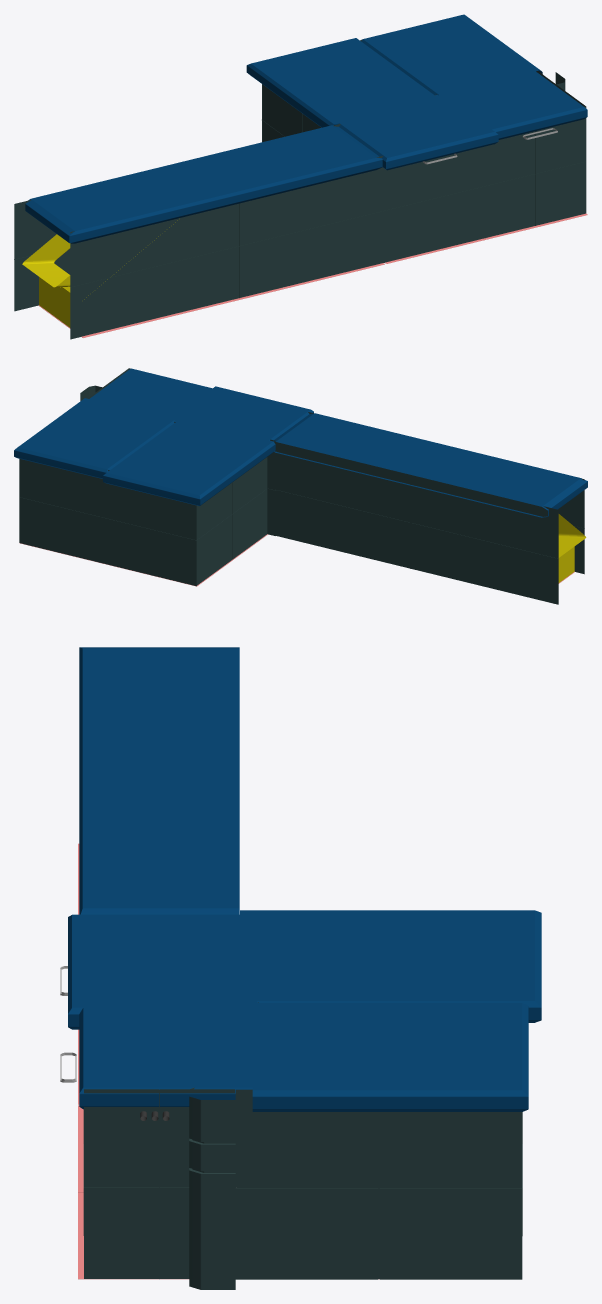
File: SalaAFinal.dae
3 renders of one model, top to bottom at view 1: azimuth 30°, elevation 25°; view 2: azimuth 150°, elevation 25°; view 3: azimuth 270°, elevation 25°, orthographic. The views are drawn at different scales.
Visible parts, largest first — view 1: PIllar_w_Wall12, RPanel5, RPanel4, PIllar_w_Wall10, RPanel3, PIllar_w_Wall11, RPanel1, RPanel2, PIllar_w_Wall8, Doorway, PIllar_w_Wall7; view 2: PIllar_w_Wall8, RPanel5, RPanel4, PIllar_w_Wall5, PIllar_w_Wall4, RPanel3, PIllar_w_Wall7, RPanel1, RPanel2, Doorway, PIllar_w_Wall12, PIllar_w_Wall2; view 3: PIllar_w_Wall6, RPanel5, RPanel3, RPanel4, PIllar_w_Wall9, RPanel1, RPanel2, PIllar_w_Wall1.
Part boxes in pixels (bbox=[...]): PIllar_w_Wall12: bbox=[70, 155, 409, 339]; RPanel5: bbox=[25, 125, 382, 243]; RPanel4: bbox=[246, 38, 438, 127]; PIllar_w_Wall10: bbox=[485, 106, 586, 237]; RPanel3: bbox=[361, 14, 542, 95]; PIllar_w_Wall11: bbox=[409, 146, 485, 256]; RPanel1: bbox=[334, 94, 498, 170]; RPanel2: bbox=[440, 71, 587, 139]; PIllar_w_Wall8: bbox=[14, 124, 340, 311]; Doorway: bbox=[22, 220, 177, 327]; PIllar_w_Wall7: bbox=[262, 84, 321, 141]; PIllar_w_Wall8: bbox=[276, 442, 558, 604]; RPanel5: bbox=[274, 413, 587, 517]; RPanel4: bbox=[103, 418, 275, 506]; PIllar_w_Wall5: bbox=[19, 459, 108, 564]; PIllar_w_Wall4: bbox=[107, 470, 196, 586]; RPanel3: bbox=[14, 398, 175, 478]; PIllar_w_Wall7: bbox=[196, 457, 267, 585]; RPanel1: bbox=[171, 386, 313, 440]; RPanel2: bbox=[89, 368, 215, 418]; Doorway: bbox=[558, 514, 586, 582]; PIllar_w_Wall12: bbox=[308, 412, 584, 574]; PIllar_w_Wall2: bbox=[267, 440, 275, 535]; PIllar_w_Wall6: bbox=[235, 1089, 522, 1279]; RPanel5: bbox=[79, 647, 239, 914]; RPanel3: bbox=[252, 1003, 528, 1111]; RPanel4: bbox=[240, 910, 541, 1022]; PIllar_w_Wall9: bbox=[84, 1089, 234, 1279]; RPanel1: bbox=[68, 914, 256, 1029]; RPanel2: bbox=[79, 1004, 252, 1109]; PIllar_w_Wall1: bbox=[189, 1087, 235, 1289].
Bounding box in the file's own units: 103 × 44.71 × 19.56.
